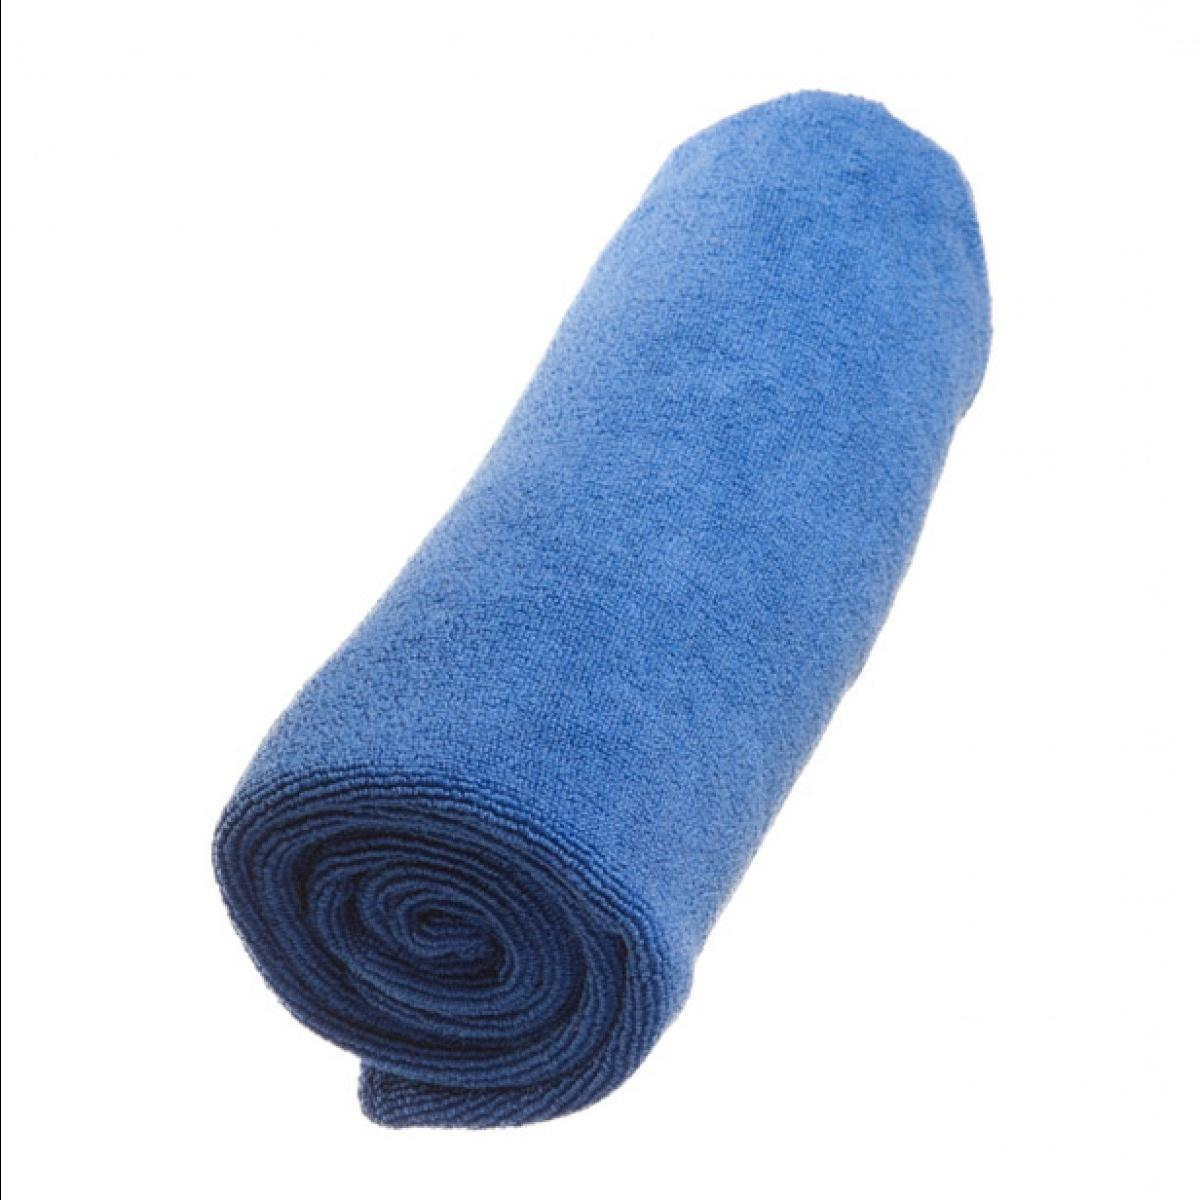towel: (155, 49, 1057, 1198)
